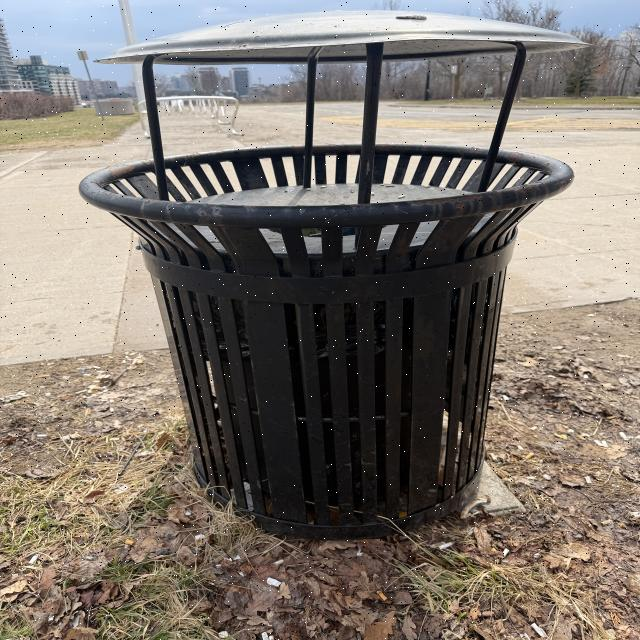Dustbin: (78, 11, 593, 530)
